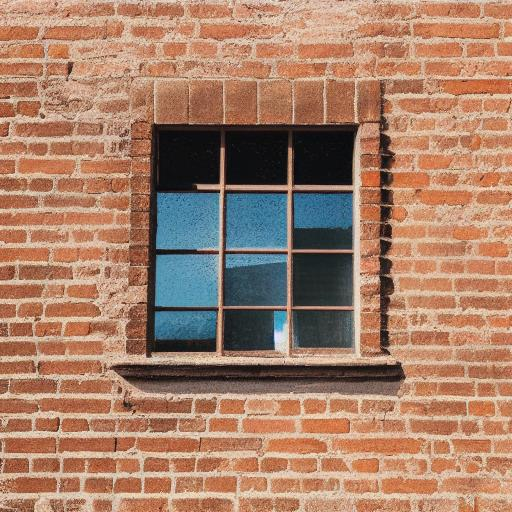Window: (109, 82, 410, 382)
